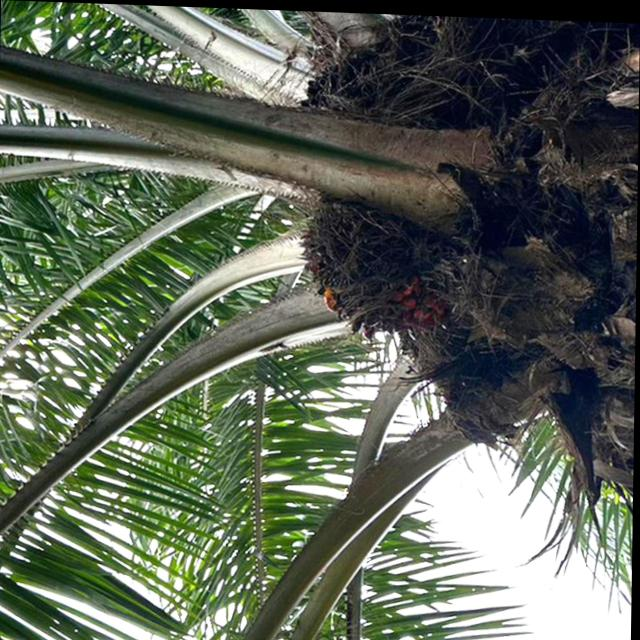ripe: (290, 183, 444, 347)
